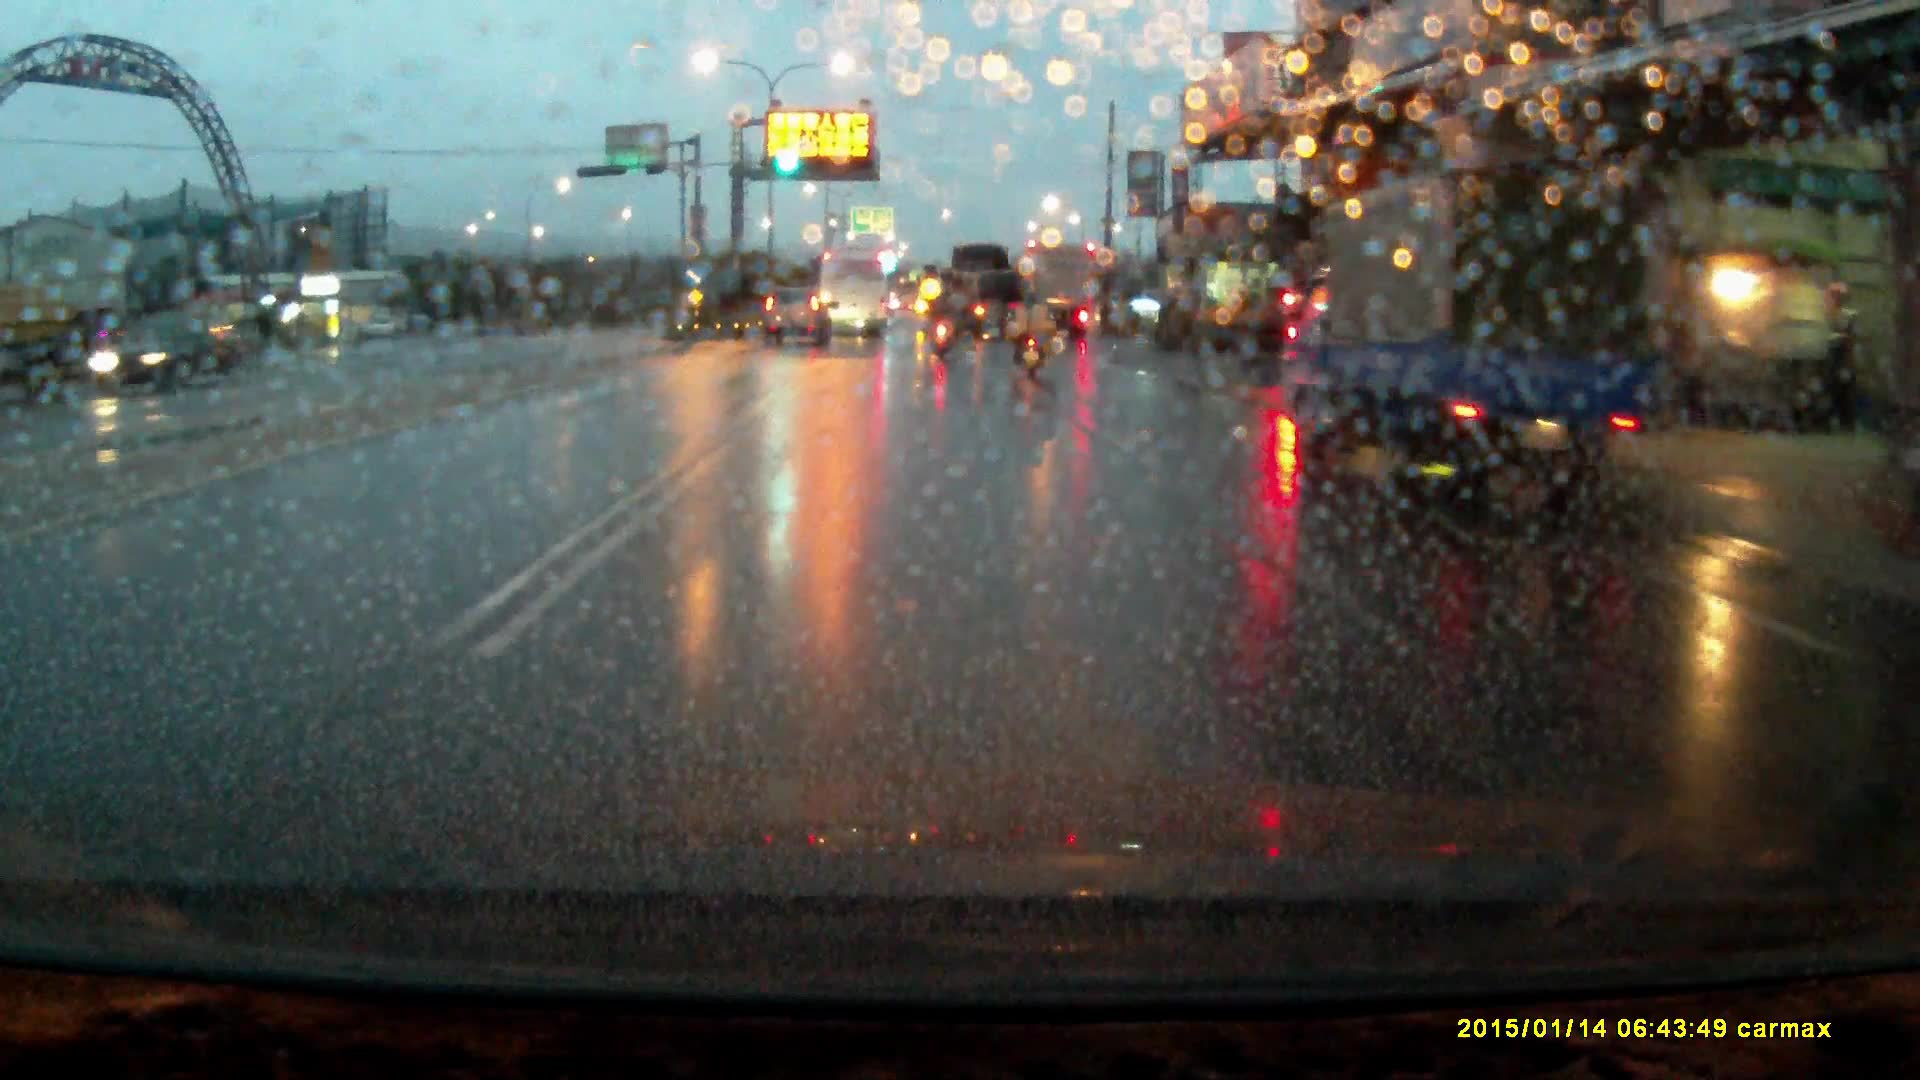rider: (1009, 288, 1051, 382), (930, 288, 957, 360)
vehicle: (1270, 159, 1675, 500), (85, 320, 236, 398), (944, 243, 1021, 340), (1025, 241, 1098, 330), (818, 248, 891, 332), (764, 285, 831, 342)
